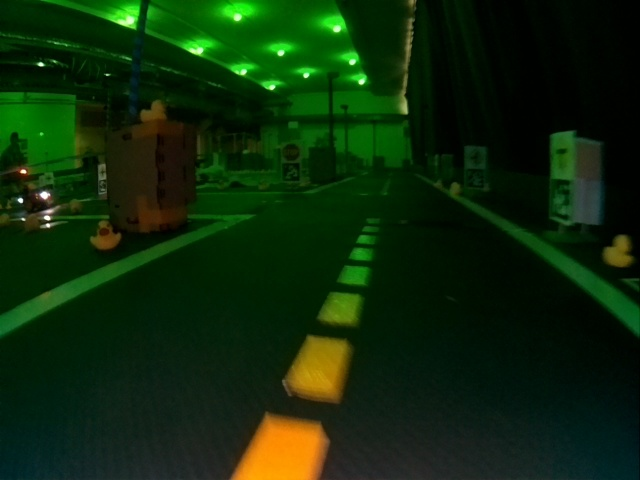Duckie: (602, 235, 633, 267), (90, 222, 121, 250), (140, 100, 167, 121), (24, 214, 40, 231), (72, 199, 82, 209), (452, 187, 461, 194), (261, 184, 268, 190)
Intersection sign: (550, 134, 573, 172), (464, 147, 484, 165)
QR code: (550, 179, 573, 225), (465, 169, 485, 187), (284, 165, 299, 182)
Stop sign: (281, 142, 301, 162)
